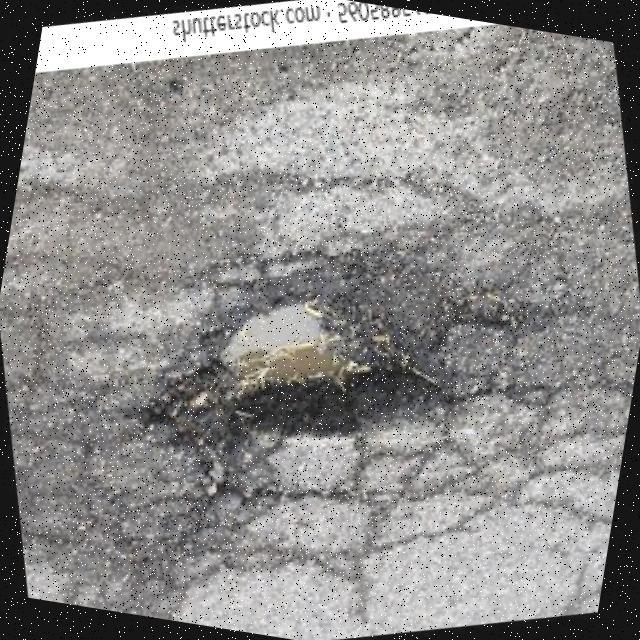Pothole: (130, 228, 522, 460)
